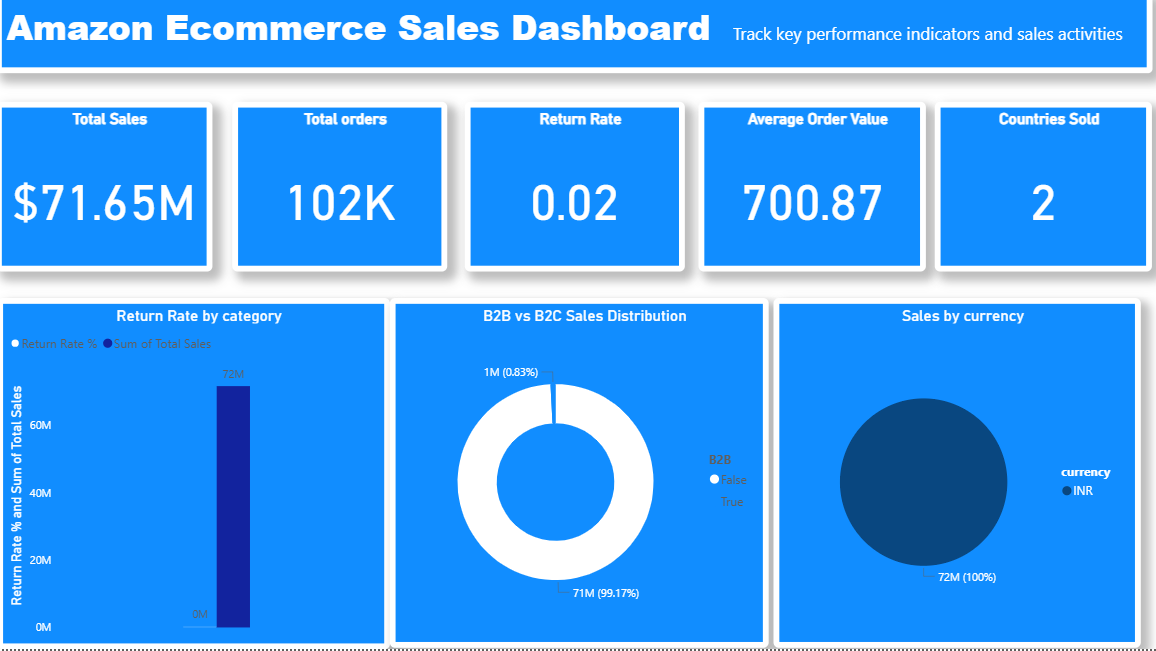

The page's visual inventory and layout, read from the dashboard file:
{"tool":"powerbi","page":{"name":"Page 1","canvas":[1280,720],"ordinal":0},"visuals":[{"type":"card","title":"Total Sales","fields":{"Values":["amazon_cleaned.Sum_Total_Sales"]},"box":[0,119.4,237.4,186.6],"z":0},{"type":"card","title":"Total orders","fields":{"Values":["amazon_cleaned.Count_Total_Orders"]},"box":[259.3,119.4,236,186.6],"z":1000},{"type":"card","title":"Return Rate","fields":{"Values":["amazon_cleaned.Return Rate %"]},"box":[514.6,119.4,241.5,186.6],"z":2000},{"type":"card","title":"Average Order Value","fields":{"Values":["amazon_cleaned.Avg Order Value"]},"box":[771.2,119.4,249.7,186.6],"z":3000},{"type":"card","title":"Countries Sold","fields":{"Values":["amazon_cleaned.Countries Sold In"]},"box":[1030.5,119.4,238.8,186.6],"z":4000},{"type":"textbox","box":[0,352.5,237,187],"z":5000},{"type":"textbox","box":[0,550,237,170],"z":6000},{"type":"textbox","box":[0,0,1269.3,87.8],"z":7000},{"type":"clusteredColumnChart","title":"Return Rate by category","fields":{"Y":["amazon_cleaned.Return Rate %","Sum(amazon_cleaned.Total Sales)"]},"box":[1.4,334.8,430.9,385.6],"z":8000},{"type":"donutChart","title":"B2B vs B2C Sales Distribution","fields":{"Y":["amazon_cleaned.Sum_Total_Sales"],"Category":["amazon_cleaned.B2B"]},"box":[432.2,334.8,415.8,384.2],"z":9000},{"type":"pieChart","title":"Sales by currency","fields":{"Category":["amazon_cleaned.currency"],"Y":["Sum(amazon_cleaned.Total Sales)"]},"box":[853.5,334.8,403.4,384.2],"z":9001}]}

Visuals, with their boxes in screenshot pixels (x1, y1, x2, y2), scaled from the page's 1280x720 canvas onto the 1156x651 screenshot:
"Total Sales" card: 0:108:214:277
"Total orders" card: 234:108:447:277
"Return Rate" card: 465:108:683:277
"Average Order Value" card: 696:108:922:277
"Countries Sold" card: 931:108:1146:277
textbox: 0:319:214:488
textbox: 0:497:214:650
textbox: 0:0:1146:79
"Return Rate by category" clusteredColumnChart: 1:303:390:650
"B2B vs B2C Sales Distribution" donutChart: 390:303:766:650
"Sales by currency" pieChart: 771:303:1135:650
